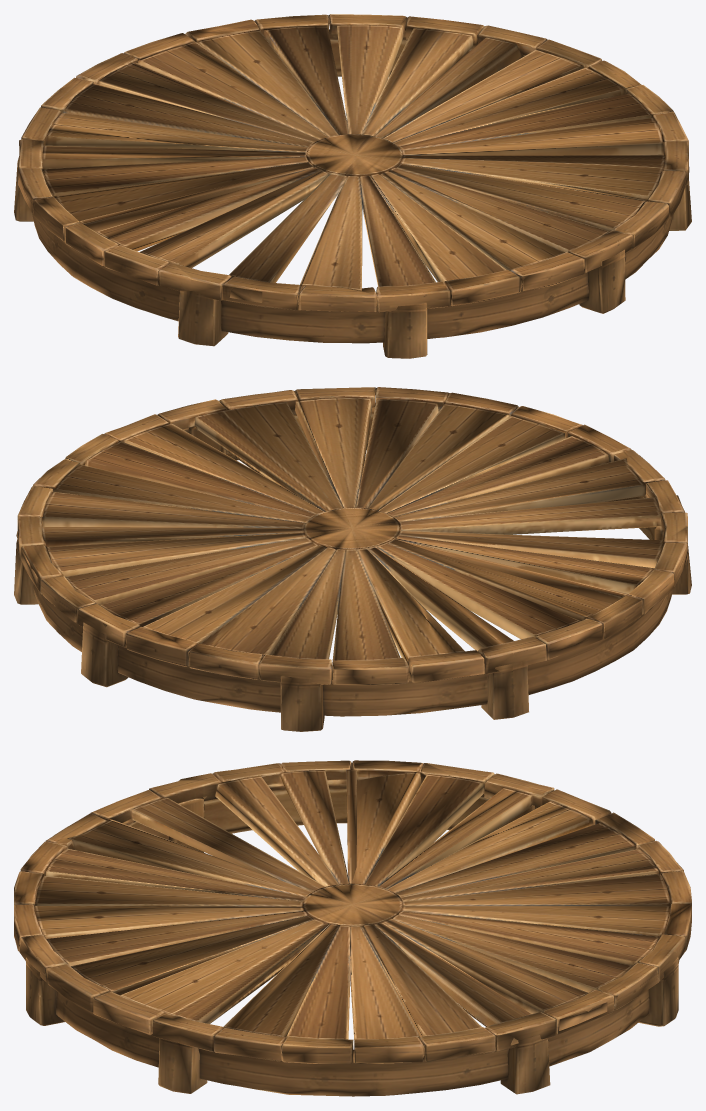
Rendered from dance-platform.glb.
3 renders of one model, top to bottom at view 1: azimuth 30°, elevation 25°; view 2: azimuth 150°, elevation 25°; view 3: azimuth 270°, elevation 25°, orthographic.
Parts seen in each view (by area): view 1: Mesh_0.002; view 2: Mesh_0.002; view 3: Mesh_0.002.
Part boxes in pixels (left/top/right/bottom): Mesh_0.002: left=14, top=14, right=691, bottom=358; Mesh_0.002: left=14, top=387, right=691, bottom=731; Mesh_0.002: left=14, top=760, right=691, bottom=1096.
Bounding box in the file's own units: 2.76 × 0.3 × 2.76.
1 material, 1 textured.
